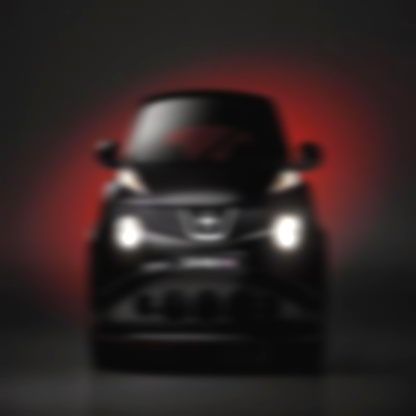Vehicle: (86, 86, 331, 376)
